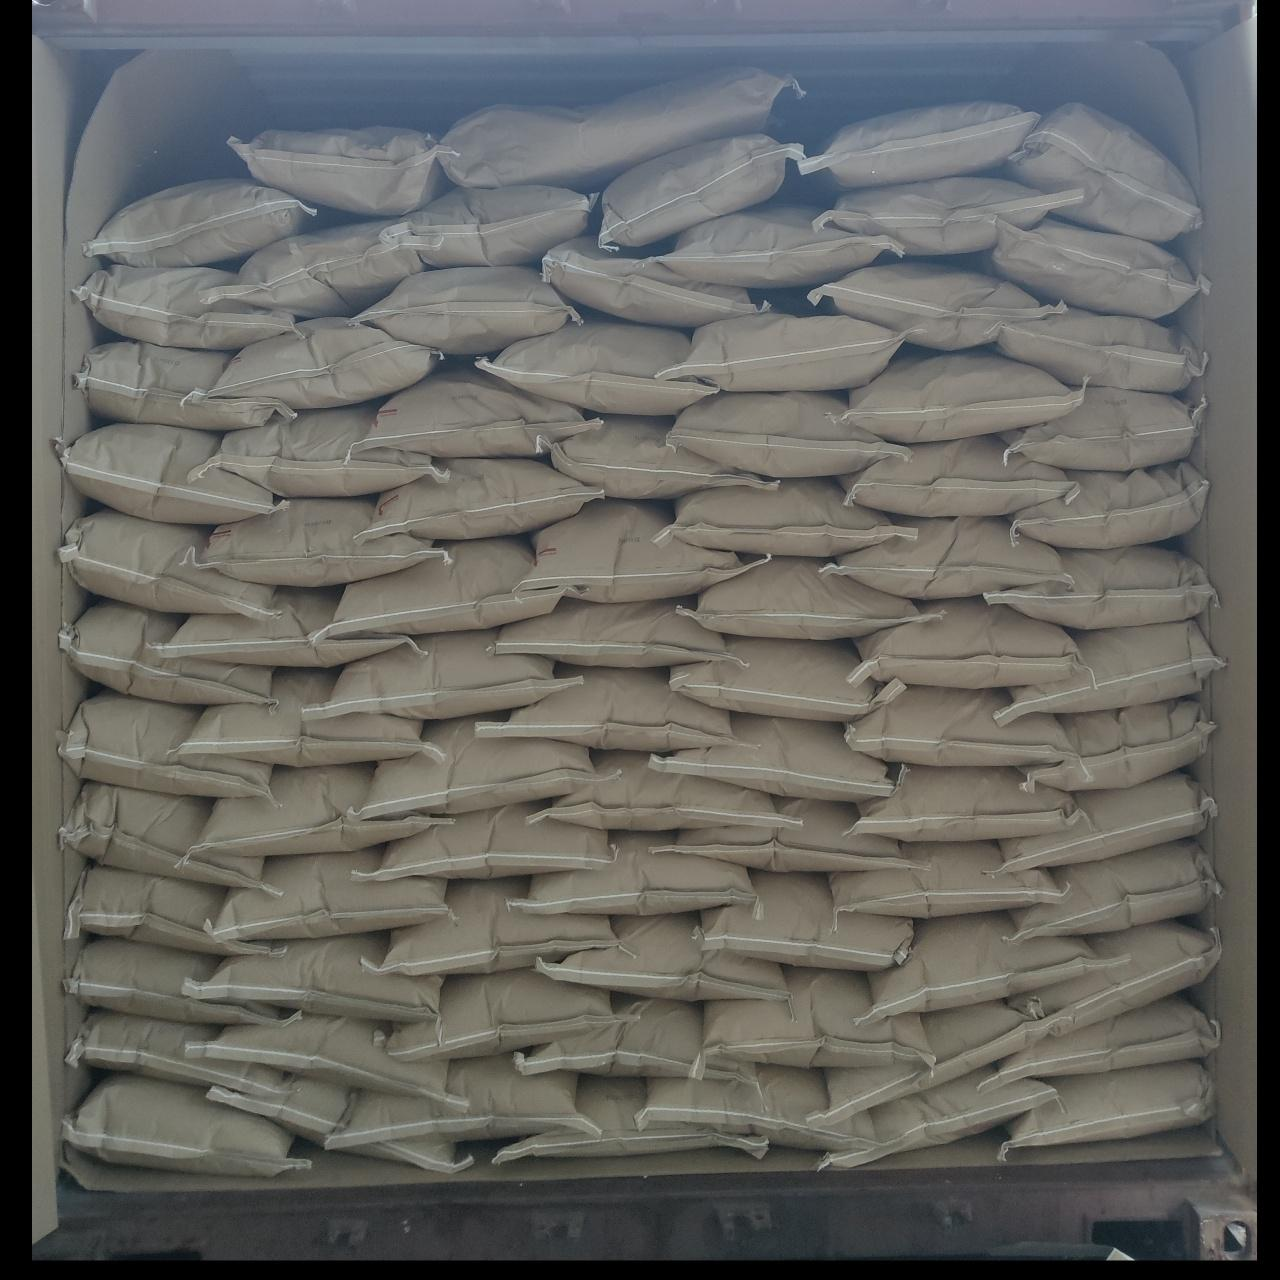sack: (432, 68, 806, 182), (852, 912, 1102, 1032), (816, 1000, 1052, 1124), (325, 1051, 600, 1149), (1002, 104, 1200, 240), (170, 670, 444, 766), (208, 1074, 470, 1174), (306, 630, 580, 722), (516, 500, 766, 598), (598, 136, 814, 248), (62, 782, 278, 894), (206, 1014, 462, 1108), (190, 764, 450, 856), (818, 1070, 1056, 1170), (1008, 918, 1220, 1030), (326, 536, 562, 636), (476, 316, 716, 414), (64, 1076, 304, 1174), (538, 914, 790, 1006), (360, 716, 596, 814), (370, 880, 616, 974), (60, 510, 274, 616), (60, 690, 270, 798), (496, 1078, 766, 1162), (190, 404, 440, 494), (186, 932, 440, 1020), (58, 600, 272, 704), (810, 262, 1062, 350), (980, 220, 1206, 318), (996, 620, 1222, 718), (1008, 838, 1218, 942), (210, 848, 452, 938), (58, 424, 280, 522), (704, 968, 930, 1064), (994, 772, 1214, 870), (478, 668, 736, 750), (518, 998, 756, 1086), (846, 350, 1078, 440), (198, 498, 446, 582), (210, 220, 422, 318), (206, 320, 442, 408), (354, 368, 590, 456), (1000, 1060, 1214, 1156), (650, 714, 894, 798), (698, 872, 910, 968), (668, 392, 904, 478), (538, 752, 798, 830), (688, 558, 940, 638), (802, 102, 1036, 188), (352, 266, 580, 354), (160, 590, 424, 666), (816, 178, 1080, 254), (386, 968, 614, 1056), (356, 460, 600, 542), (512, 832, 756, 914), (636, 1064, 868, 1150), (660, 308, 902, 390), (856, 598, 1080, 686), (822, 518, 1068, 598), (654, 206, 898, 286), (86, 180, 318, 264), (544, 238, 764, 326), (658, 480, 912, 556), (70, 866, 284, 956), (78, 342, 294, 430), (66, 938, 292, 1022), (356, 804, 612, 878), (74, 264, 294, 350), (228, 128, 448, 214), (988, 546, 1216, 628), (654, 798, 910, 870), (544, 418, 774, 498), (672, 638, 902, 718), (842, 436, 1074, 514), (998, 996, 1218, 1078), (832, 842, 1068, 918), (1020, 698, 1214, 790), (380, 186, 596, 268), (846, 686, 1072, 764), (70, 1010, 276, 1092), (996, 310, 1206, 390), (1000, 388, 1204, 470), (490, 600, 740, 666), (848, 766, 1072, 838), (1010, 464, 1206, 546)
